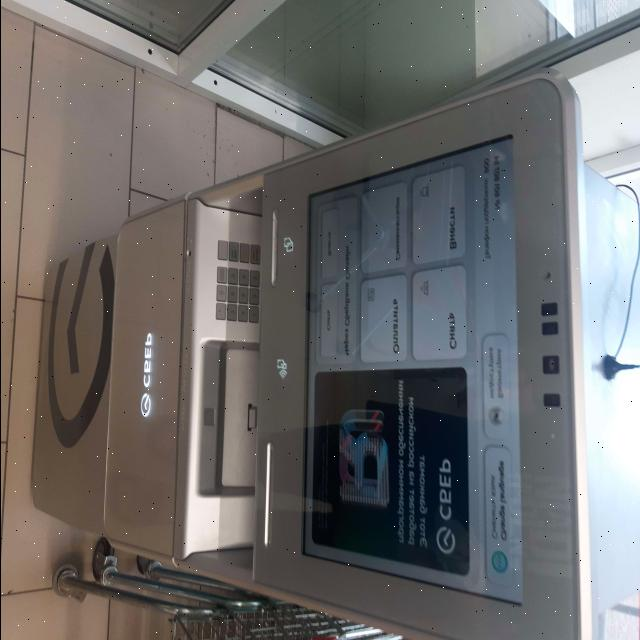bank: (23, 70, 640, 640)
